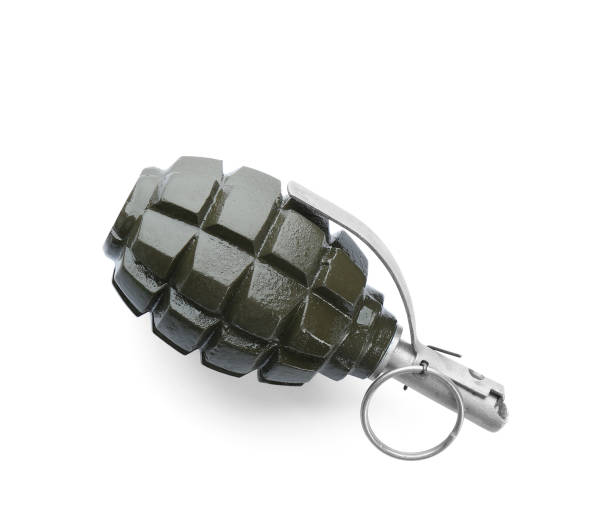e1: (99, 154, 509, 458)
